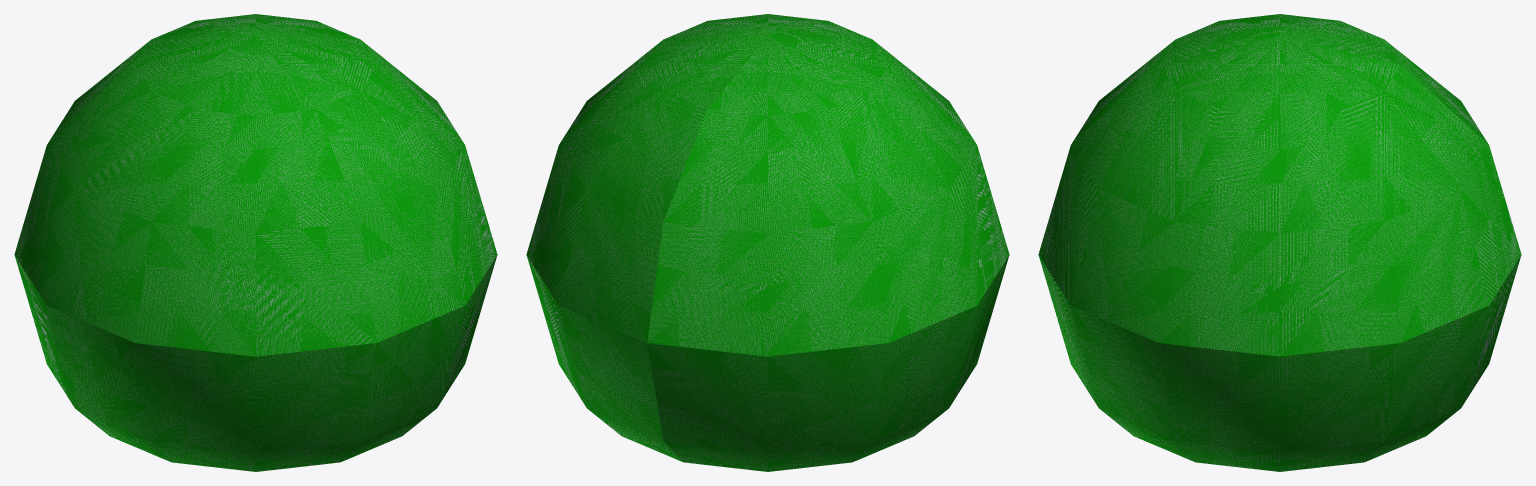
File: Round Bush.fbx
3 renders of one model, left to right at view 1: azimuth 30°, elevation 25°; view 2: azimuth 150°, elevation 25°; view 3: azimuth 270°, elevation 25°, orthographic.
Visible parts, largest first — view 1: Round_bush1; view 2: Round_bush1; view 3: Round_bush1.
Boxes of the visible parts, x1,y1,x2,y2 form: Round_bush1: [14, 14, 497, 471]; Round_bush1: [526, 14, 1009, 471]; Round_bush1: [1038, 14, 1521, 471].
Bounding box in the file's own units: 90 × 75 × 90.
